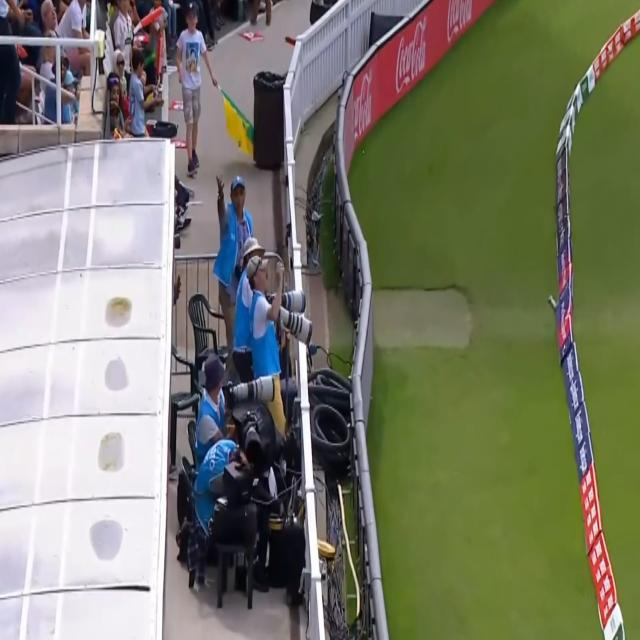ball: (274, 255, 288, 278)
